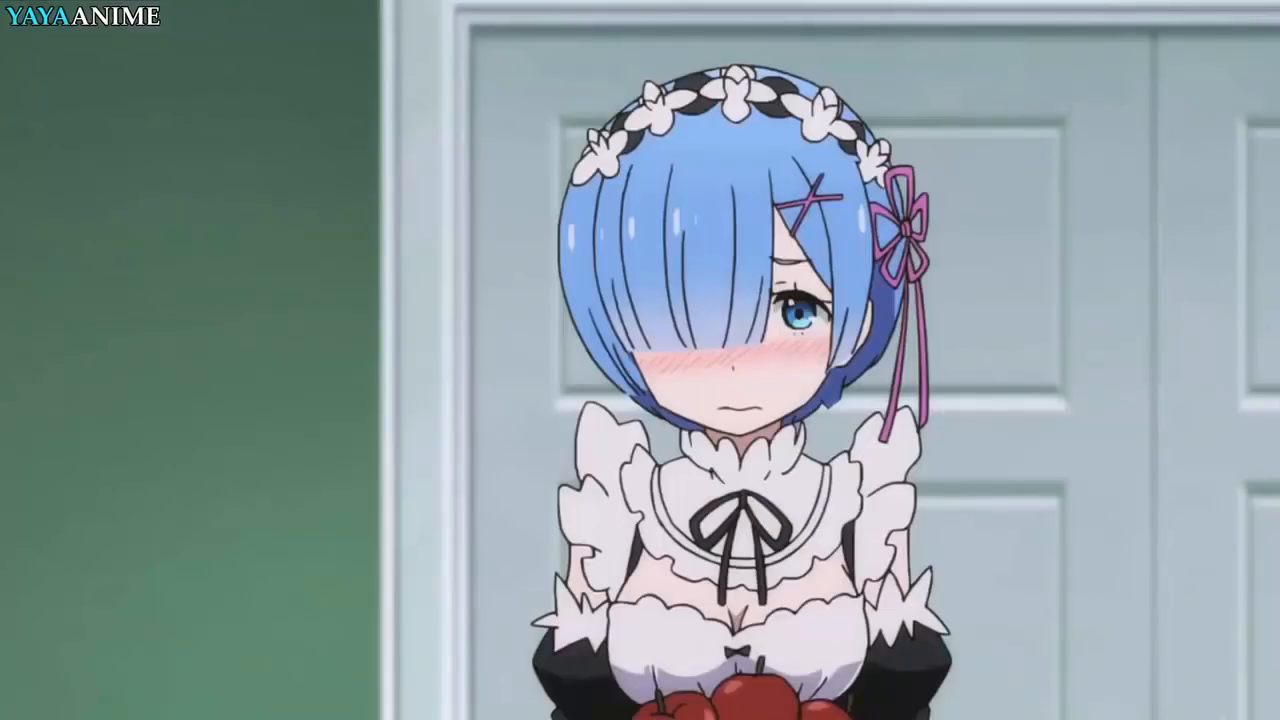REM: (554, 62, 912, 437)
